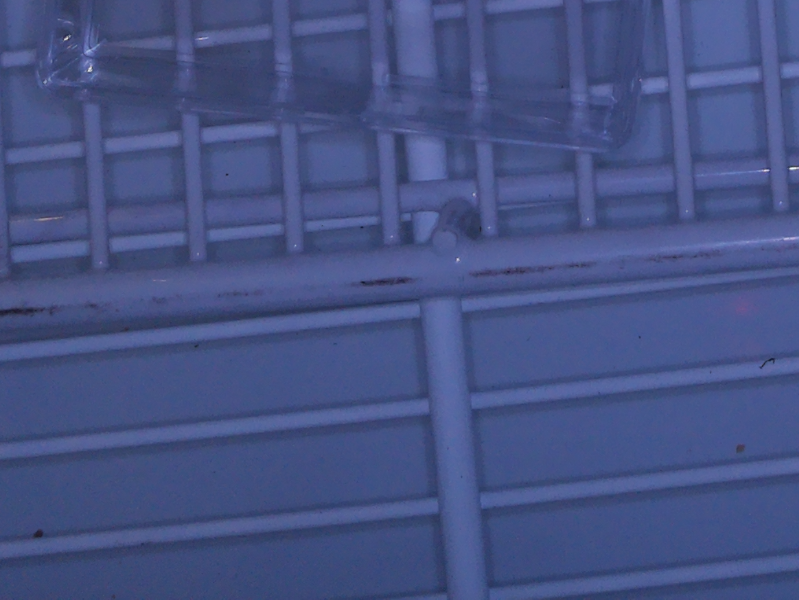plate: (32, 1, 652, 155)
